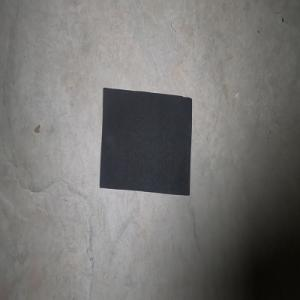PaintChip: (99, 87, 192, 195)
